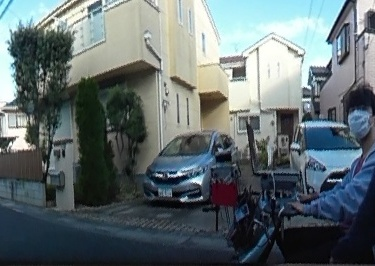person: (306, 79, 375, 266)
